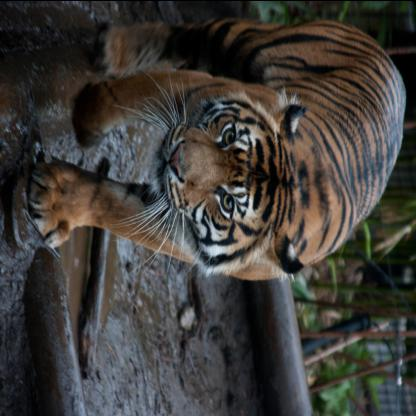tiger: (152, 70, 306, 288)
